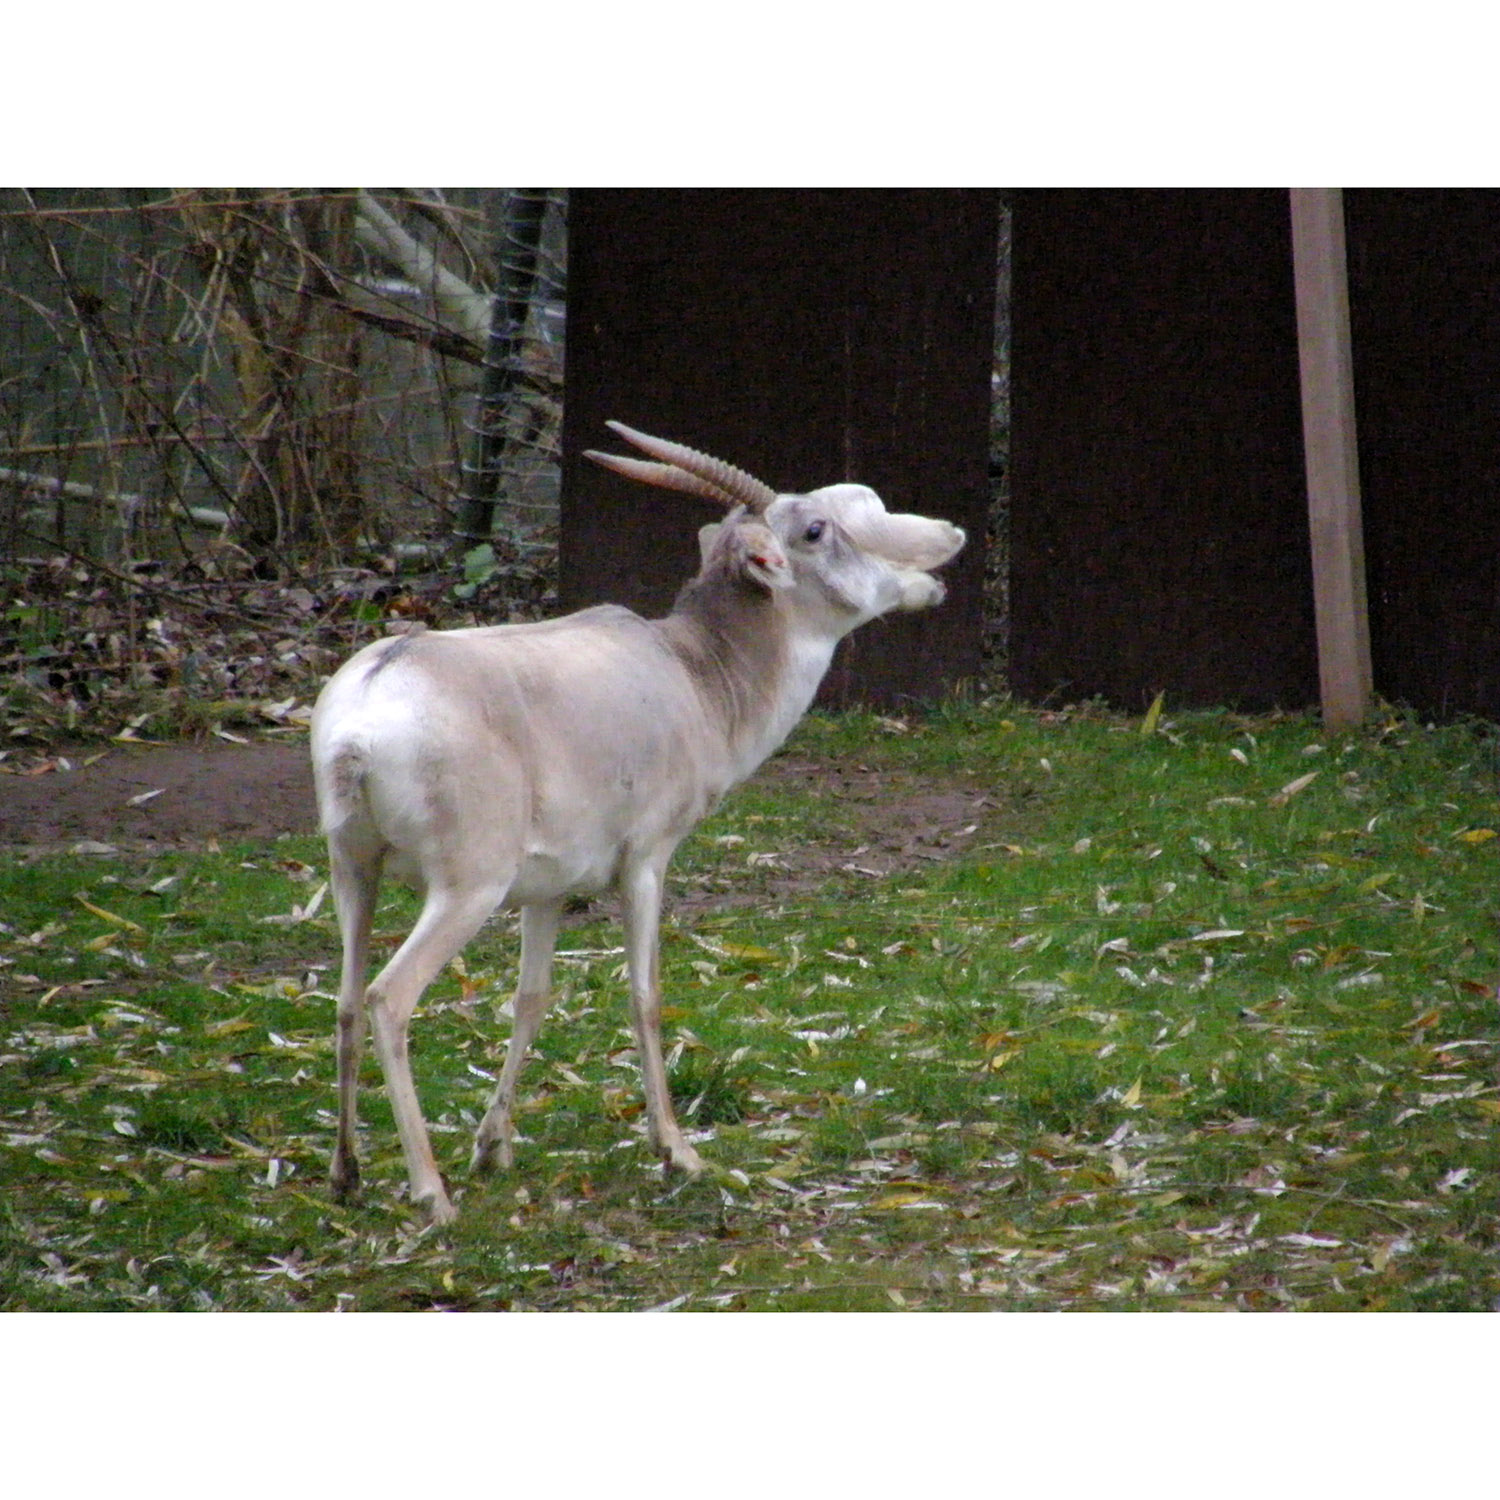saiga: (301, 418, 971, 1229)
